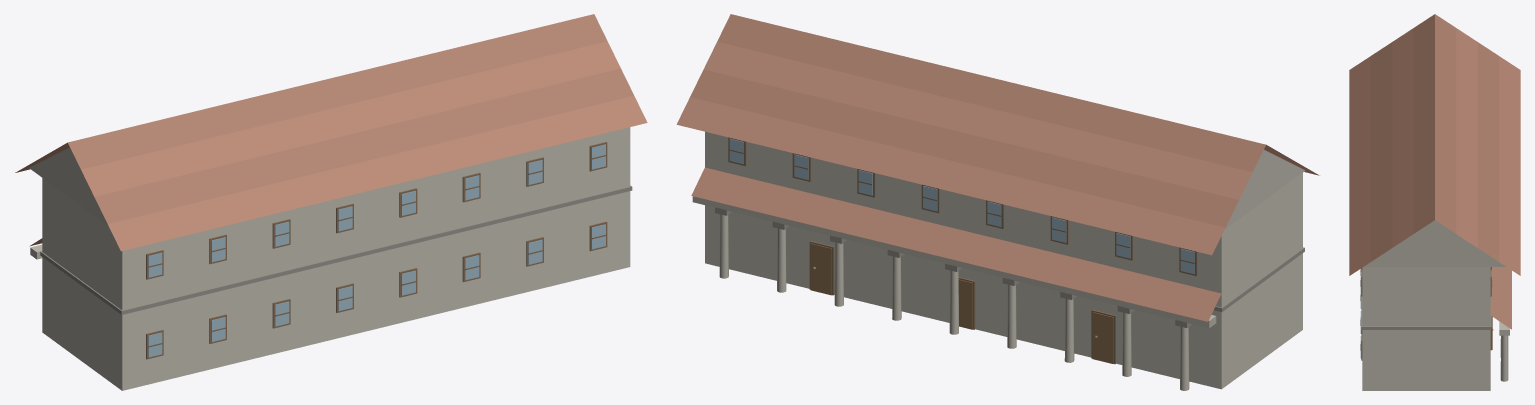
File: dorter.glb
3 views of the same model, side by side, from view 1: azimuth 30°, elevation 25°; view 2: azimuth 150°, elevation 25°; view 3: azimuth 270°, elevation 25° (orthographic). The views are drawn at different scales.
Visible parts, largest first — view 1: dorter; view 2: dorter; view 3: dorter.
Part boxes in pixels (x1=…): dorter: x1=15, y1=14, x2=647, y2=390; dorter: x1=676, y1=14, x2=1319, y2=390; dorter: x1=1349, y1=14, x2=1520, y2=390.
Size of the model in its own units: 22.8 by 9 by 8.
